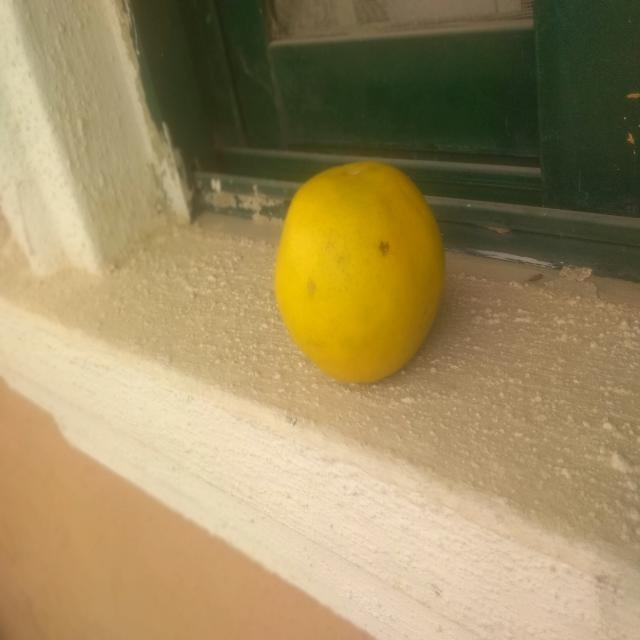agrume: (273, 157, 449, 387)
